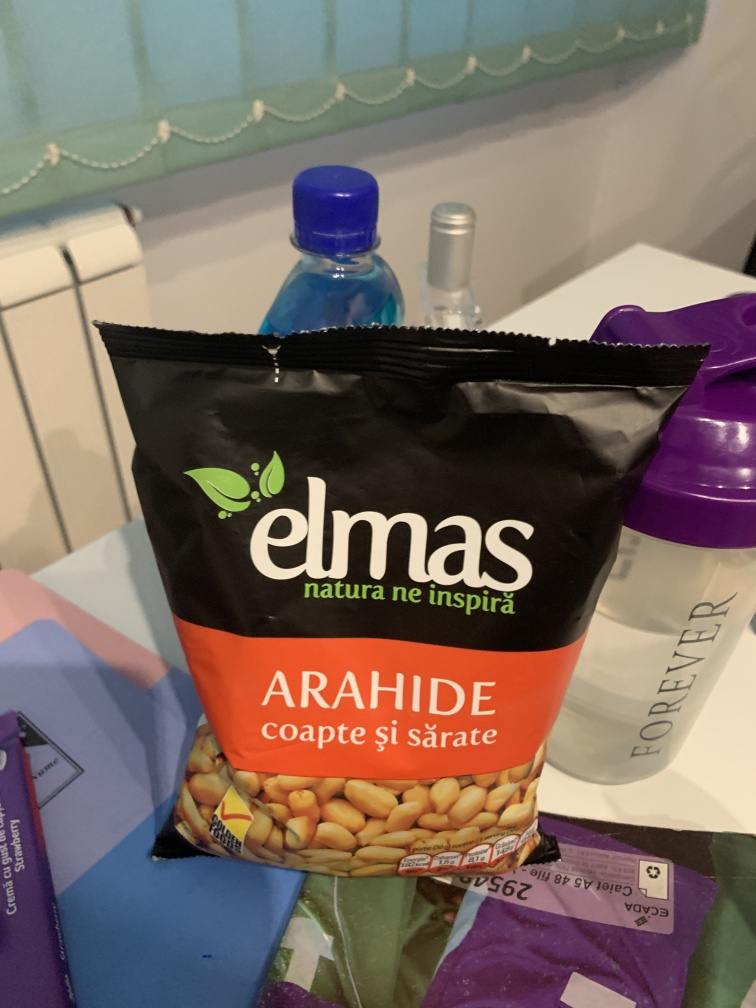peanuts: (85, 318, 707, 902)
